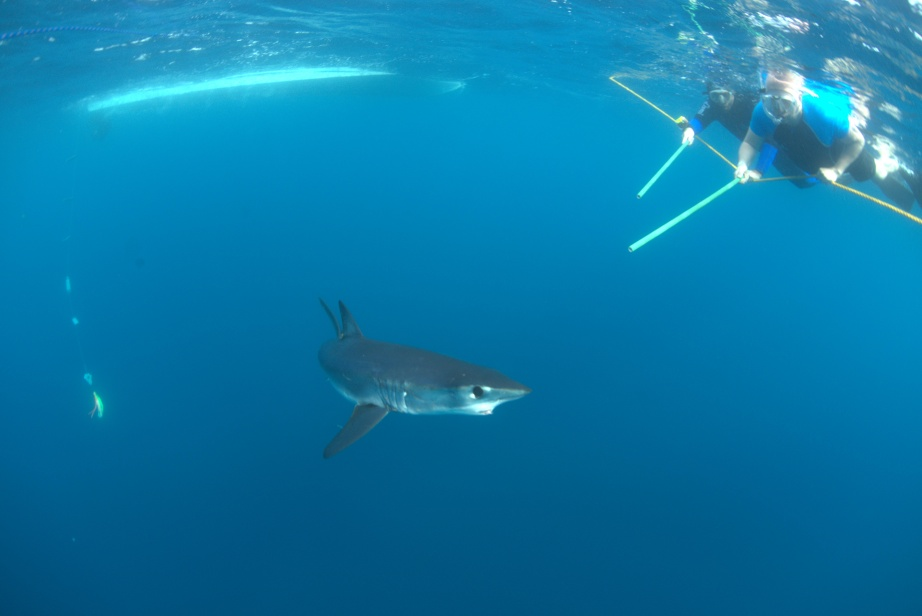Mako: (289, 291, 547, 471)
